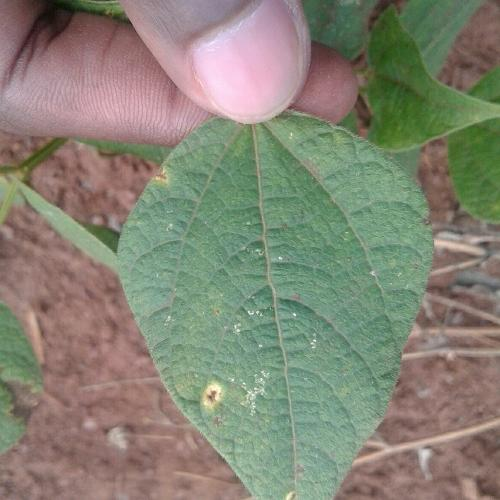embun tepung: (238, 216, 400, 426), (152, 201, 197, 348)
hawar: (196, 366, 228, 419)
